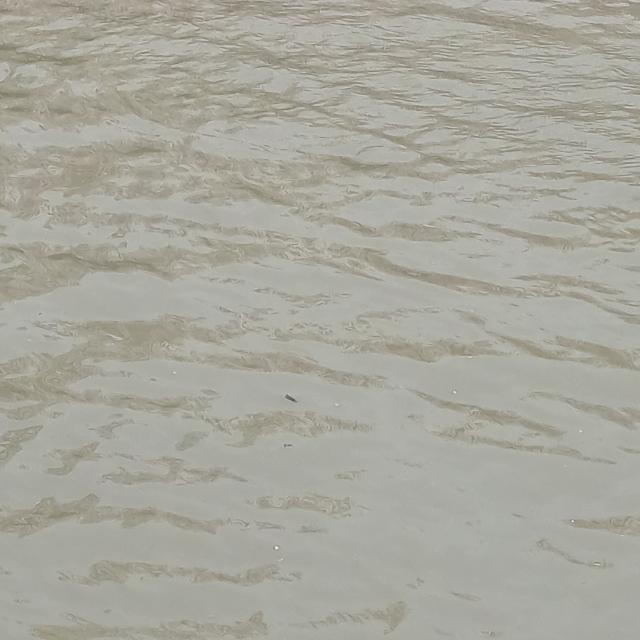Organic Debris: (283, 394, 300, 404), (272, 544, 280, 551), (333, 402, 341, 407), (466, 355, 475, 359), (578, 429, 583, 434), (452, 390, 458, 394), (172, 371, 177, 375), (570, 520, 576, 523)
